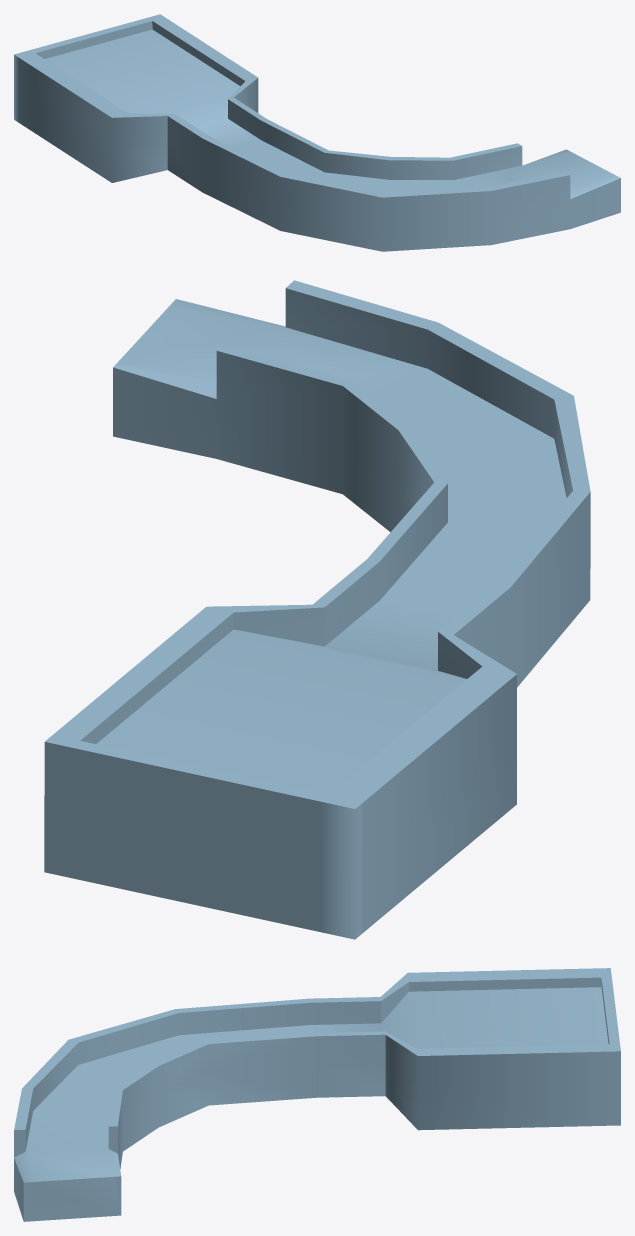
The model's file is rampla_2.fbx.
3 views of the same model, one above another, from view 1: azimuth 30°, elevation 25°; view 2: azimuth 150°, elevation 25°; view 3: azimuth 270°, elevation 25° (orthographic). The views are drawn at different scales.
Visible parts, largest first — view 1: ramplaDerecha; view 2: ramplaDerecha; view 3: ramplaDerecha.
Part boxes in pixels (x1,y1,x2,y2): ramplaDerecha: [14, 14, 620, 251]; ramplaDerecha: [44, 280, 590, 939]; ramplaDerecha: [14, 968, 620, 1221].
Bounding box in the file's own units: 960 × 173 × 1277.
